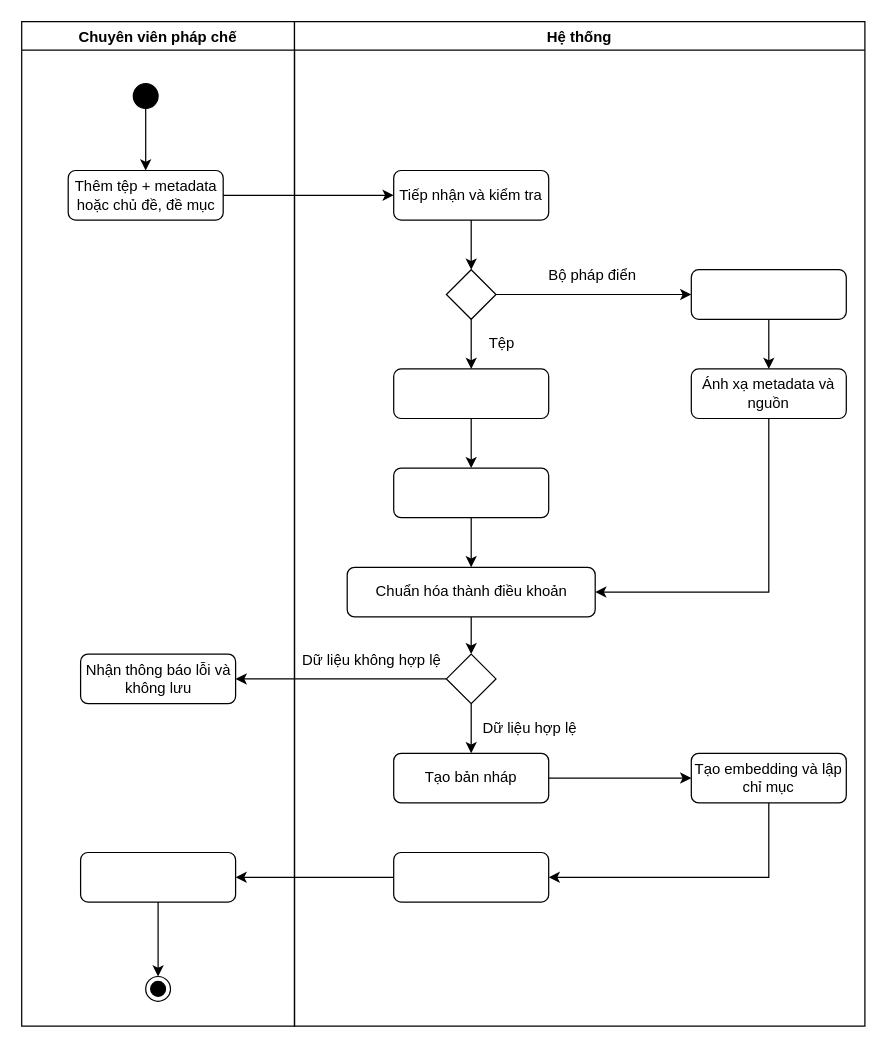
Image size: 887x1048. Some labels were removed from this diagram. The shapes that lost their labels are listed below. From the top down, each one's centre as x and y in pixels, then its label:
At (768,293): "Cung cấp nội dung điều khoản".
At (470,393): "Trích xuất văn bản".
At (470,492): "Tách theo điều khoản".
At (157,876): "Duyệt".
At (470,876): "Lưu vector và chờ duyệt".
